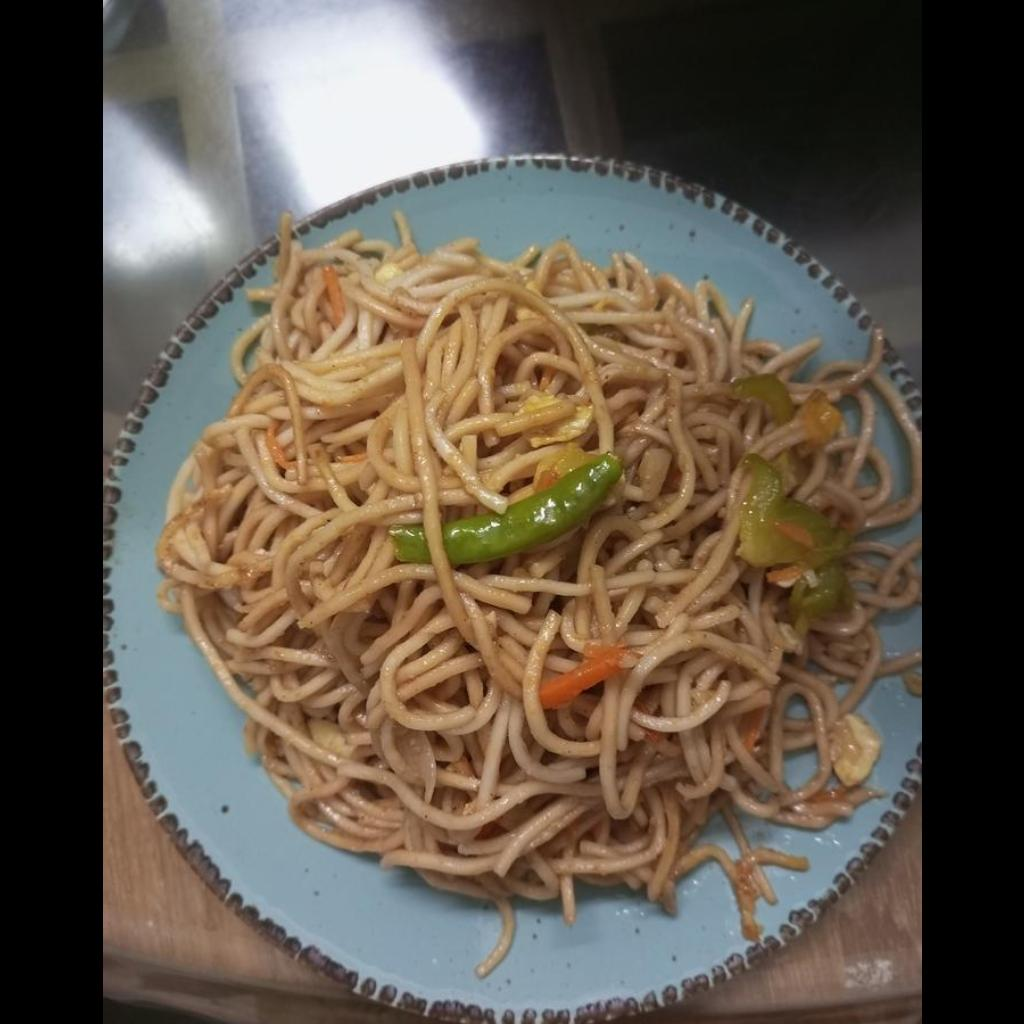noodles: (162, 230, 901, 909)
